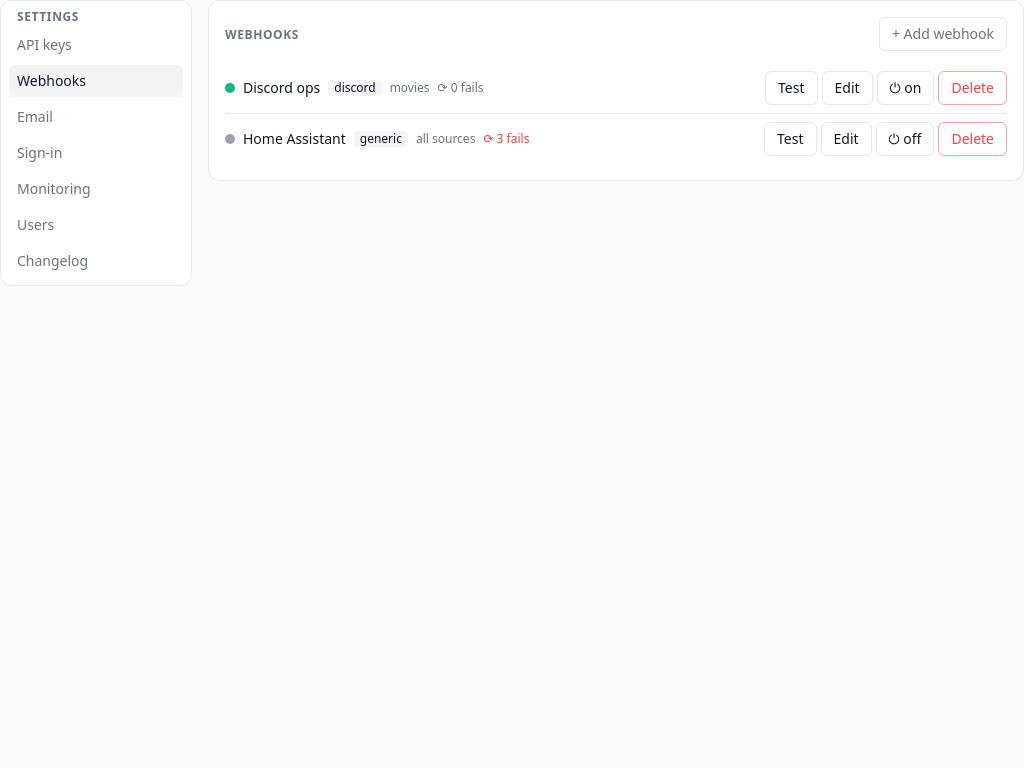
Webhooks (AC-013) › shows a server validation error inline on create
Click the button "+ Add webhook".
click(943, 34)  # box [879,17,1007,51]
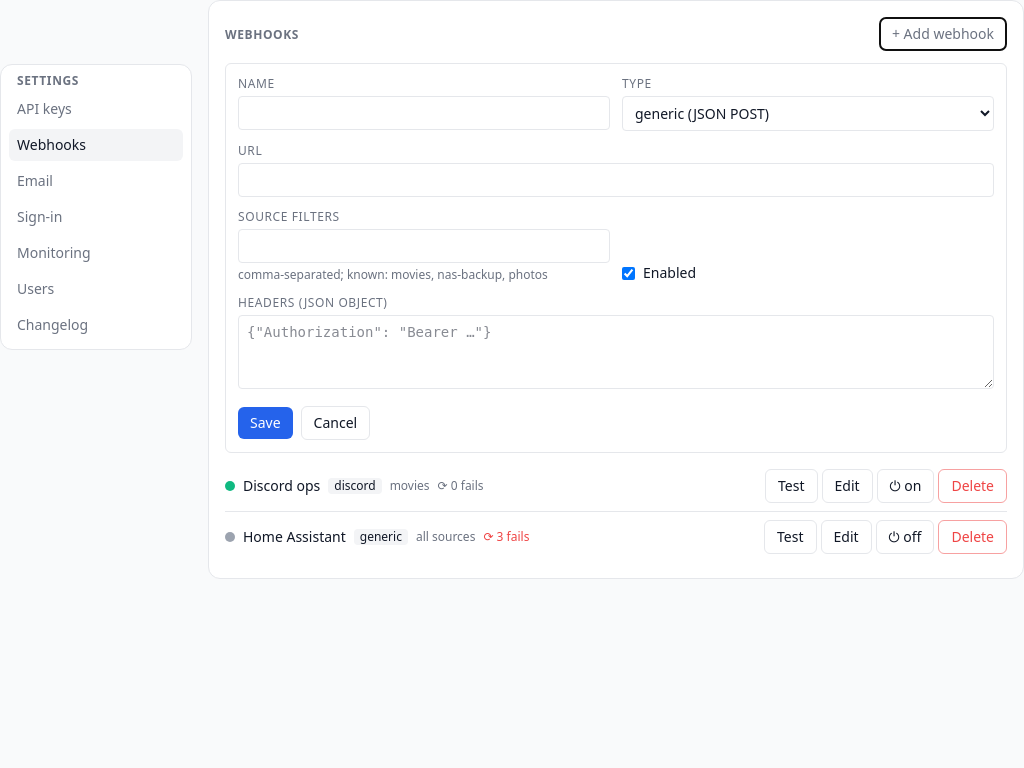
Type "hook" into the field labelled "Name".
click(424, 113); type("hook")  # box [238,96,610,130]
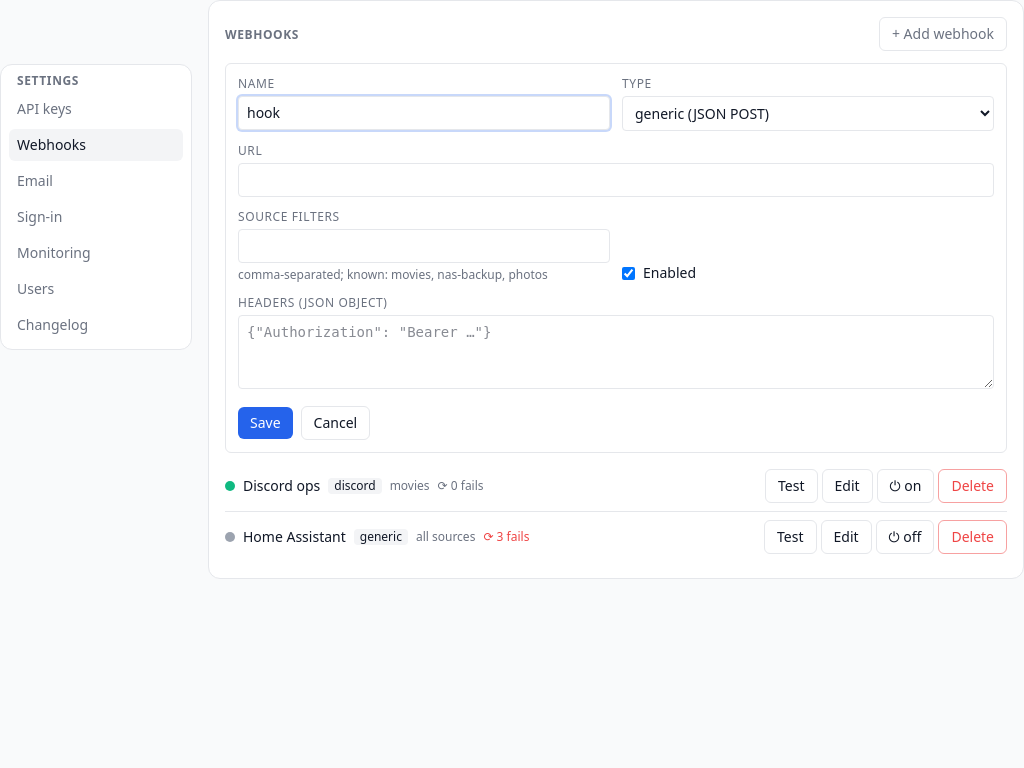
Type "https://example.com/x" into the field labelled "URL".
click(616, 180); type("https://example.com/x")  # box [238,163,994,197]
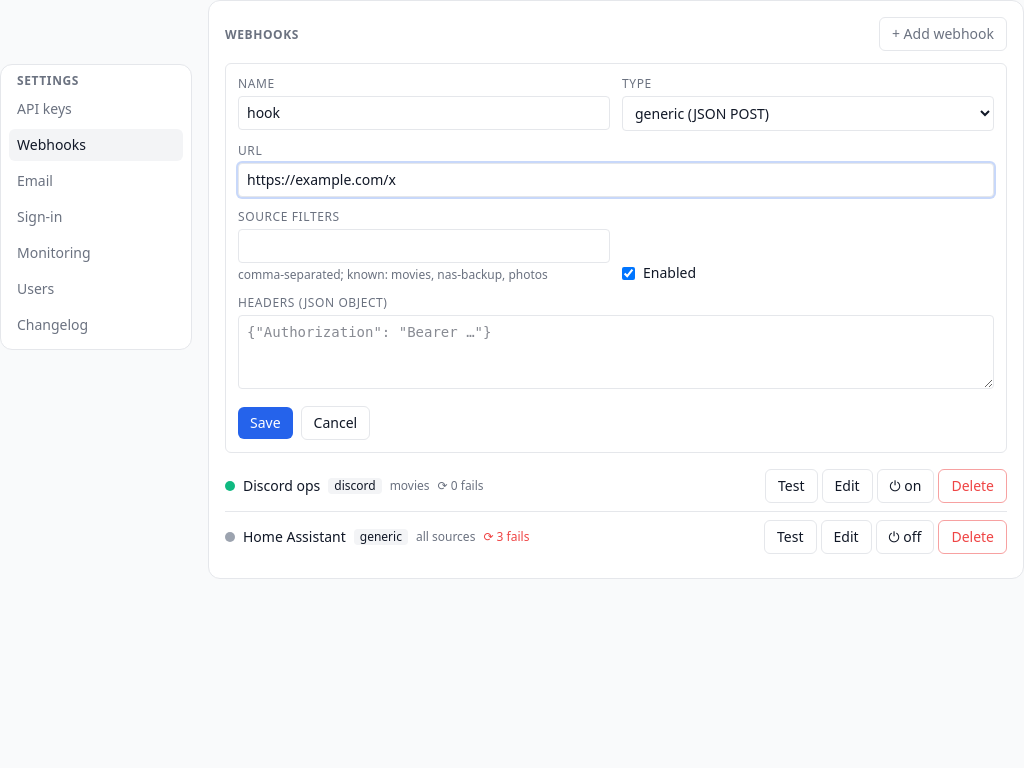
Click the button "Save".
click(265, 423)  # box [238,407,293,439]
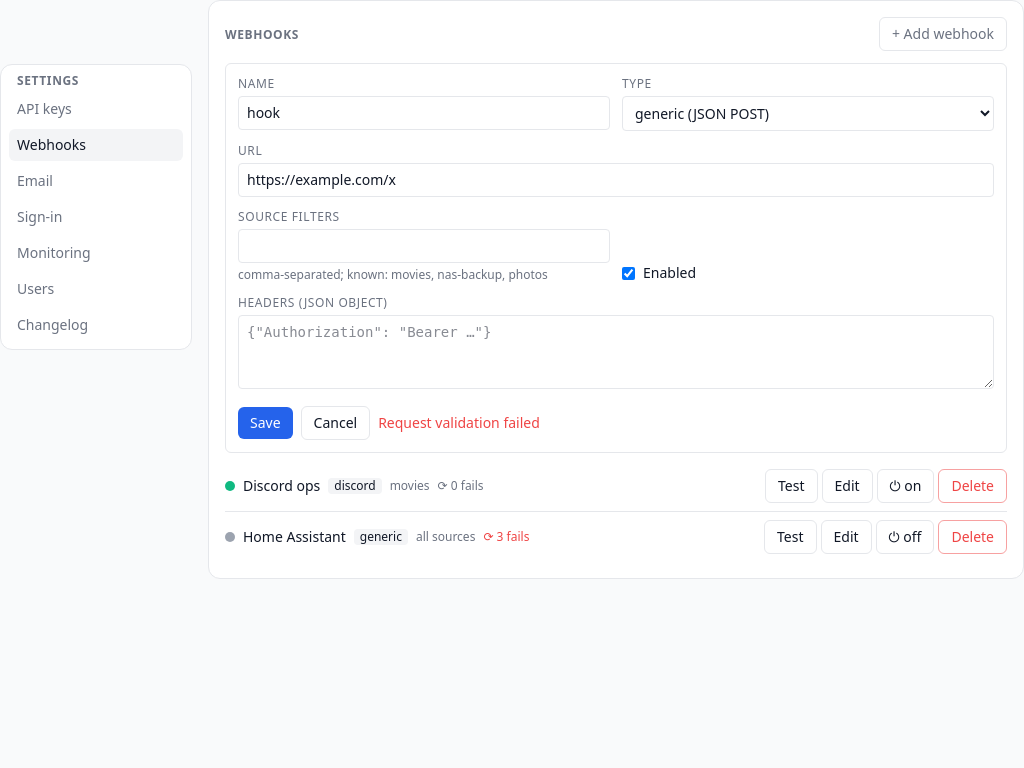
Result: the message reads "Request validation failed" at [378,413,540,432]
